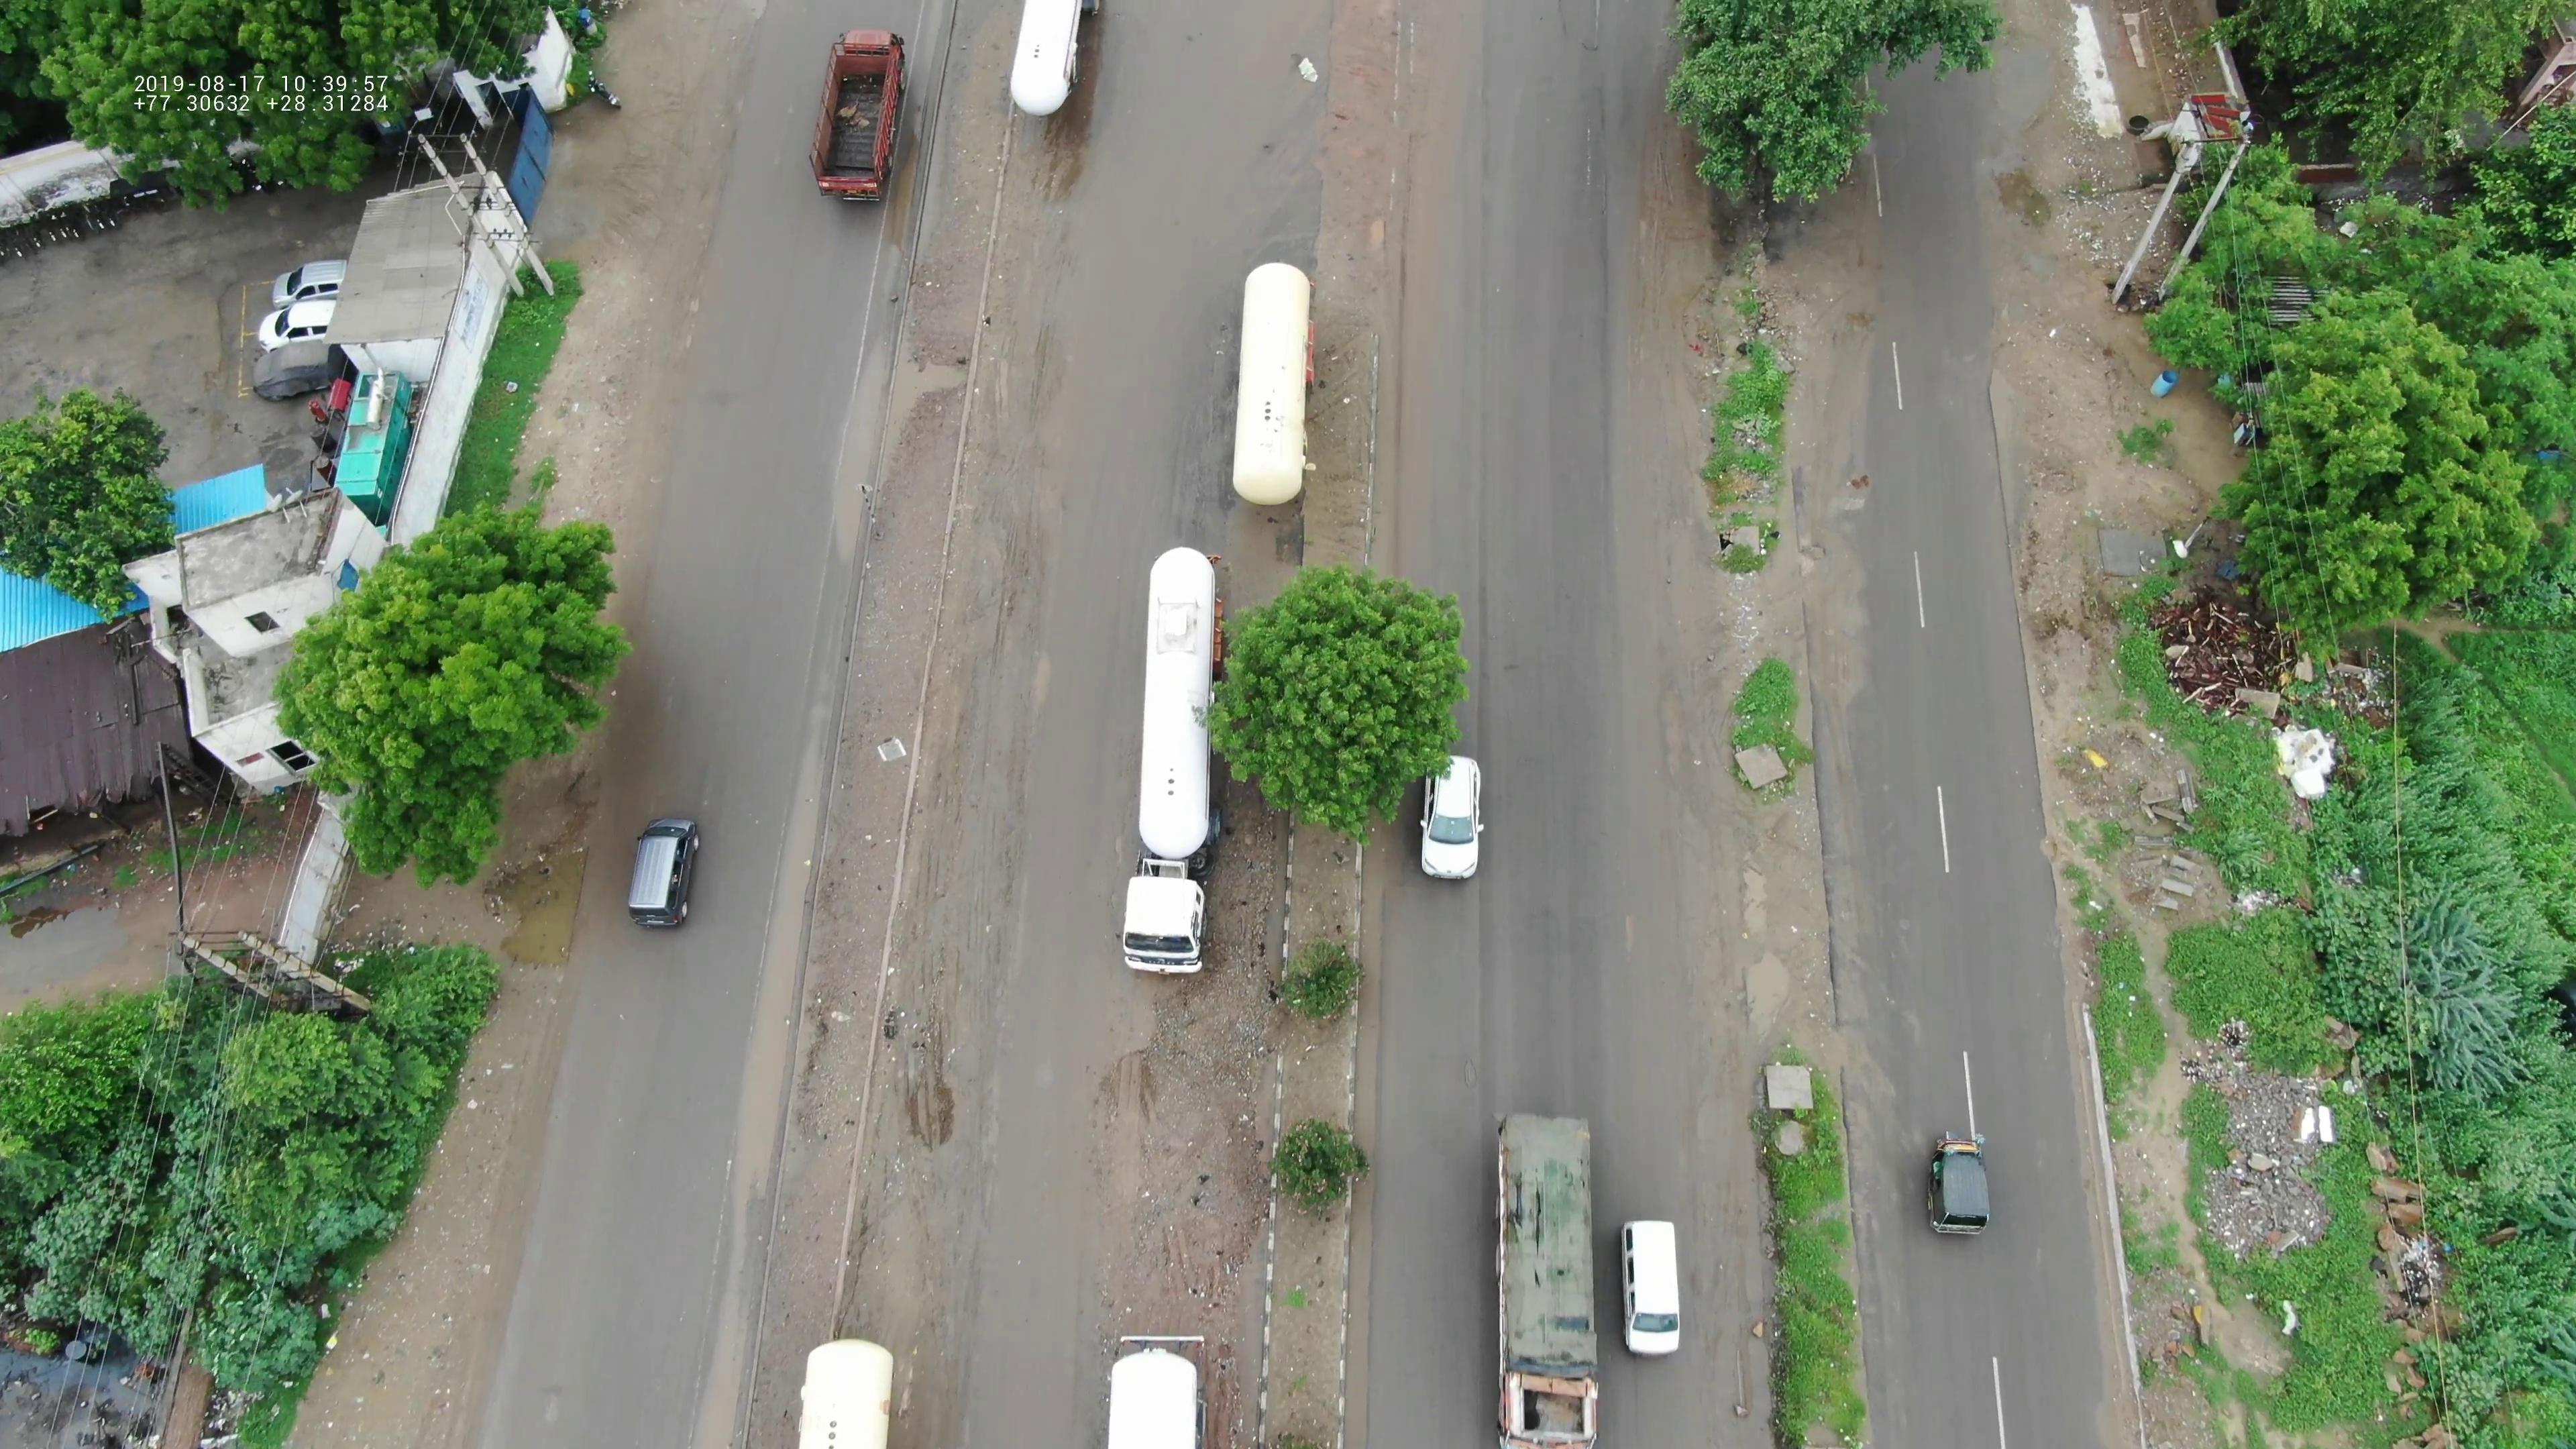Muddy_road: (964, 138, 1175, 536)
Potholes: (1838, 906, 1905, 1161), (1729, 849, 1794, 1026), (1644, 671, 1713, 800), (1591, 893, 1663, 968), (1780, 525, 1849, 579), (1433, 1035, 1488, 1093)
Waterlogging: (683, 934, 803, 1435), (823, 306, 934, 543), (469, 787, 612, 966)
